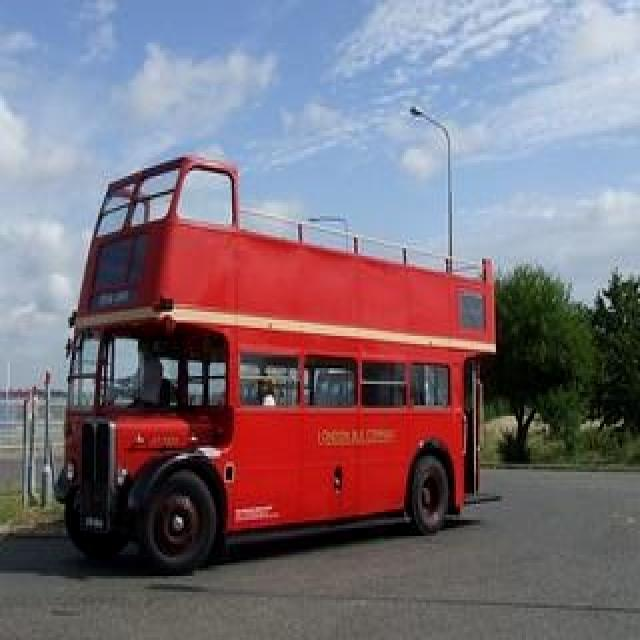Bus: (69, 123, 495, 568)
